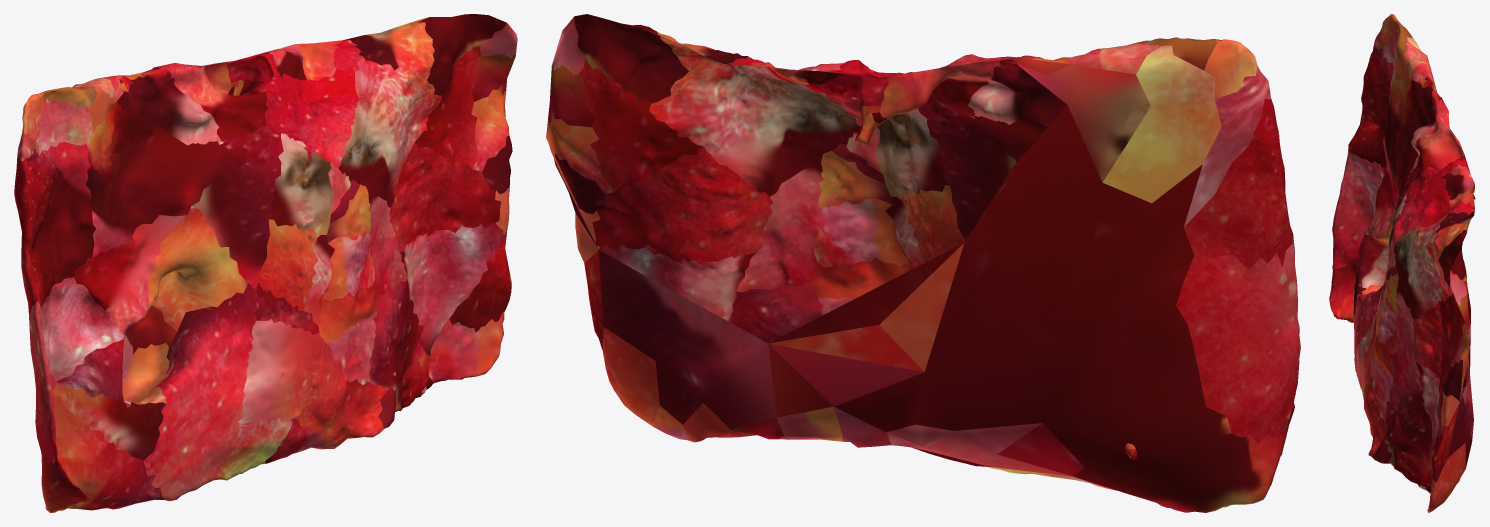
The model's file is 3DModel.obj.
The picture shows the model from 3 angles, left to right: view 1: azimuth 30°, elevation 25°; view 2: azimuth 150°, elevation 25°; view 3: azimuth 270°, elevation 25°; orthographic projection. The views are drawn at different scales.
Parts seen in each view (by area): view 1: 3DModel; view 2: 3DModel; view 3: 3DModel.
Part boxes in pixels (box(x1,y1,x2,y2)): 3DModel: box(14, 14, 517, 512); 3DModel: box(546, 14, 1300, 512); 3DModel: box(1329, 14, 1475, 512).
Size of the model in its own units: 0.2513 by 0.182 by 0.0744.
